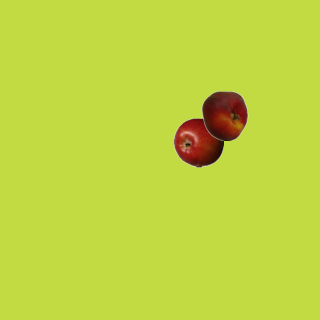Apple Braeburn: (173, 117, 223, 167)
Nectarine Flat: (199, 90, 249, 140)
